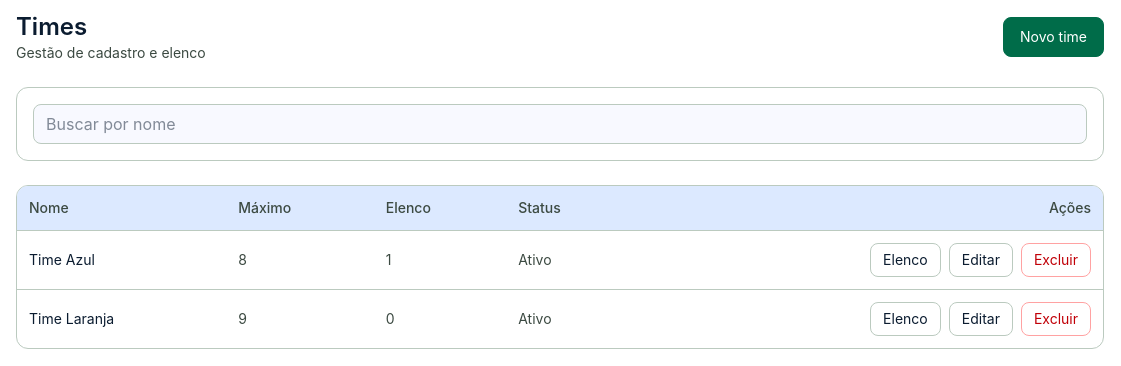
Test: TeamsPage › deve renderizar lista e filtro
This screenshot has width=1121, height=366.
Expected: the text "Time Azul" is shown, x1=17 y1=230 x2=226 y2=290
Expected: the text "Time Laranja" is shown, x1=17 y1=290 x2=226 y2=348
Type "azul" into the field with placeholder "Buscar por nome" at [560, 124], box x1=33 y1=104 x2=1087 y2=144
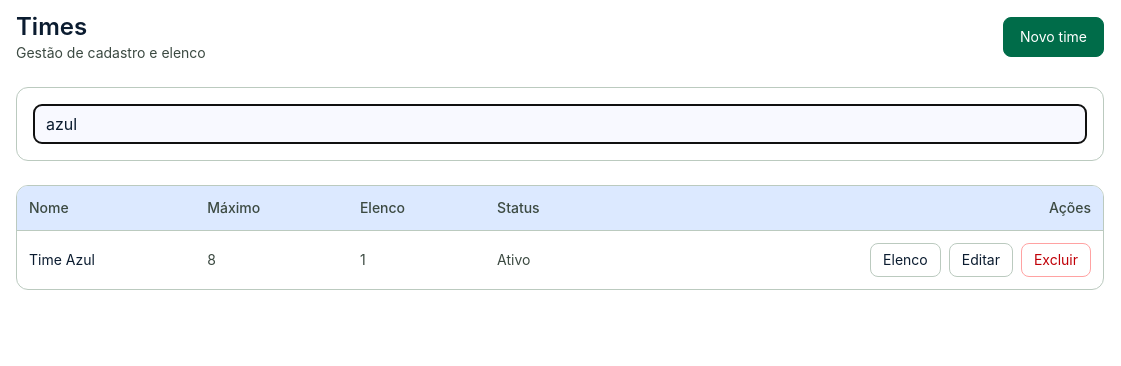
Expected: the text "Time Azul" is shown, x1=17 y1=230 x2=195 y2=289
Result: the text "Time Laranja" is gone
